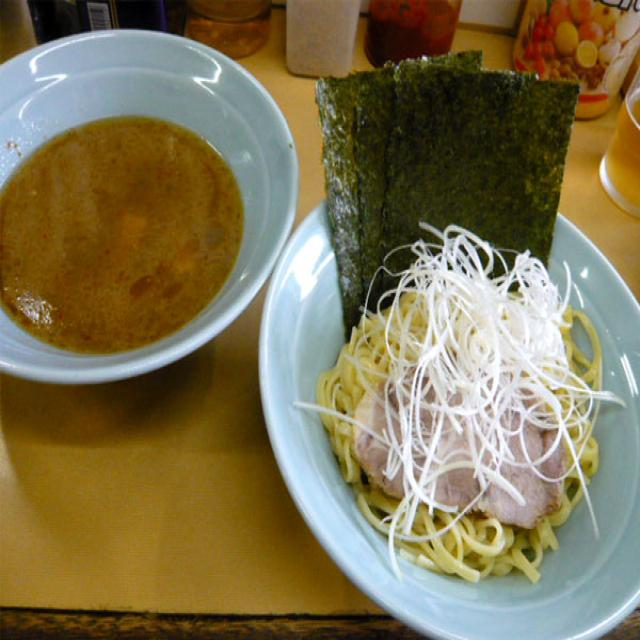面条主食: (0, 47, 636, 587)
